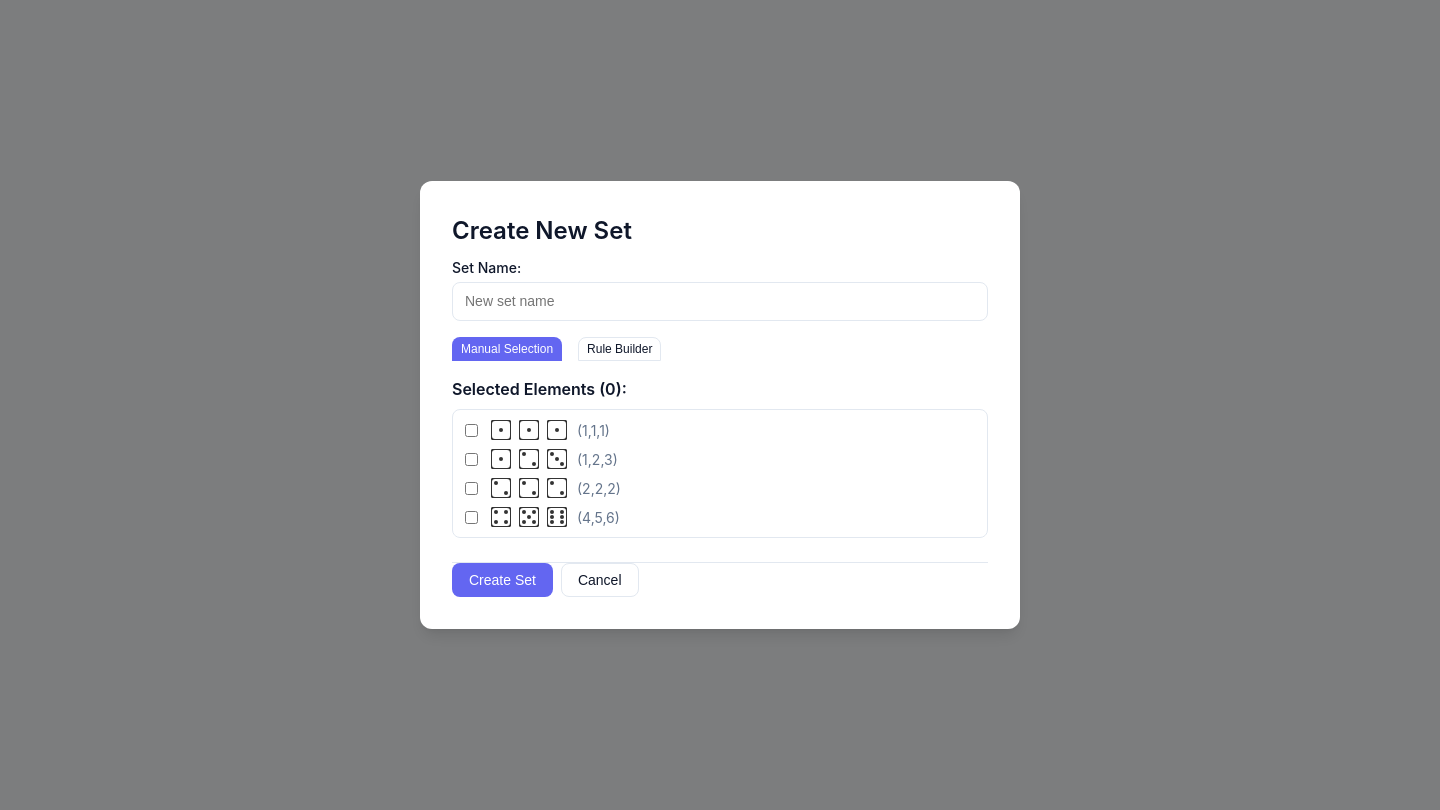
SetEditModal 3-Dice Rules › applies SUM rule correctly for 3 dice
Click the button "Rule Builder". click: (620, 349)
box: [578,337,662,361]
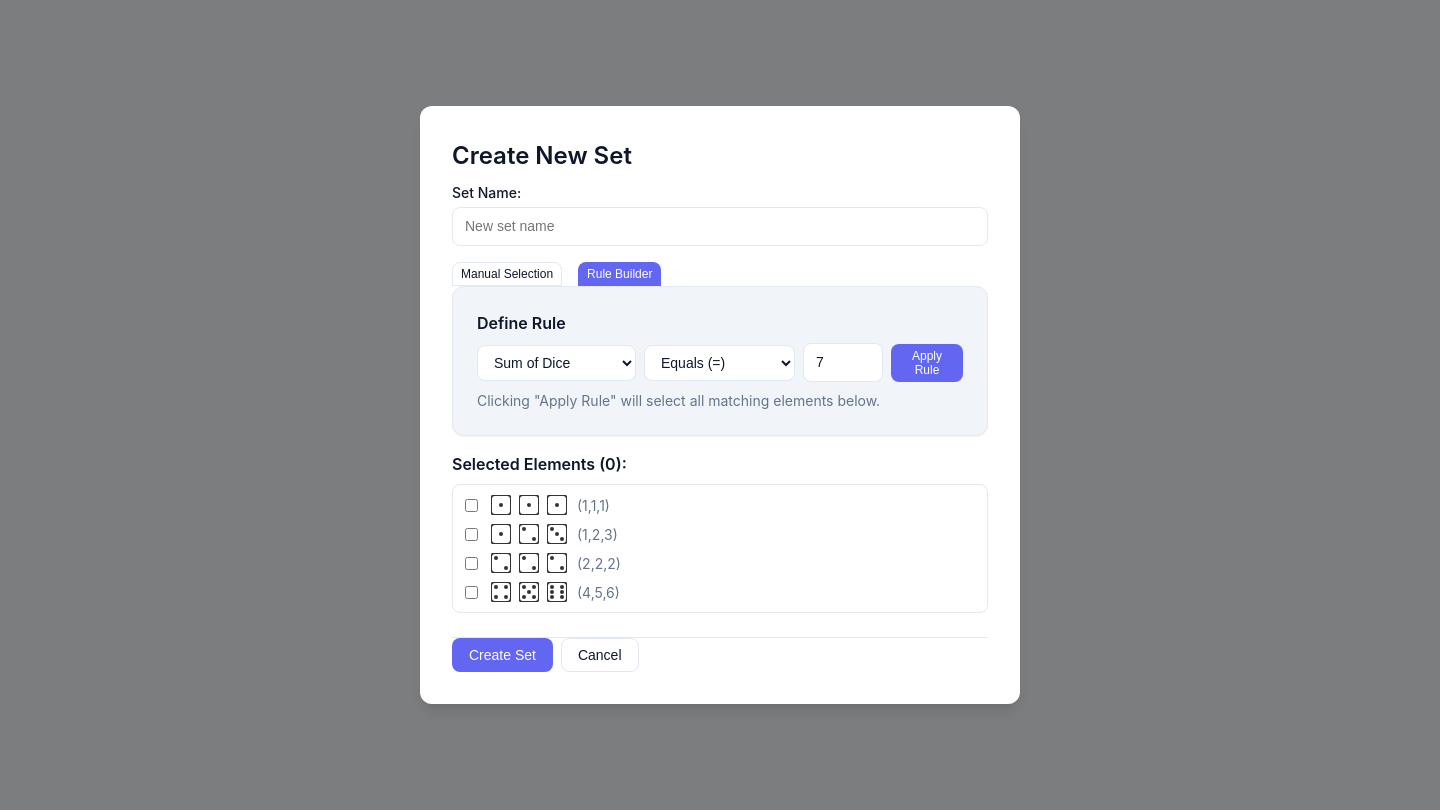
Replace the text in the number field showing "7" with "6". click: (843, 362)
box: [803,343,883,382]
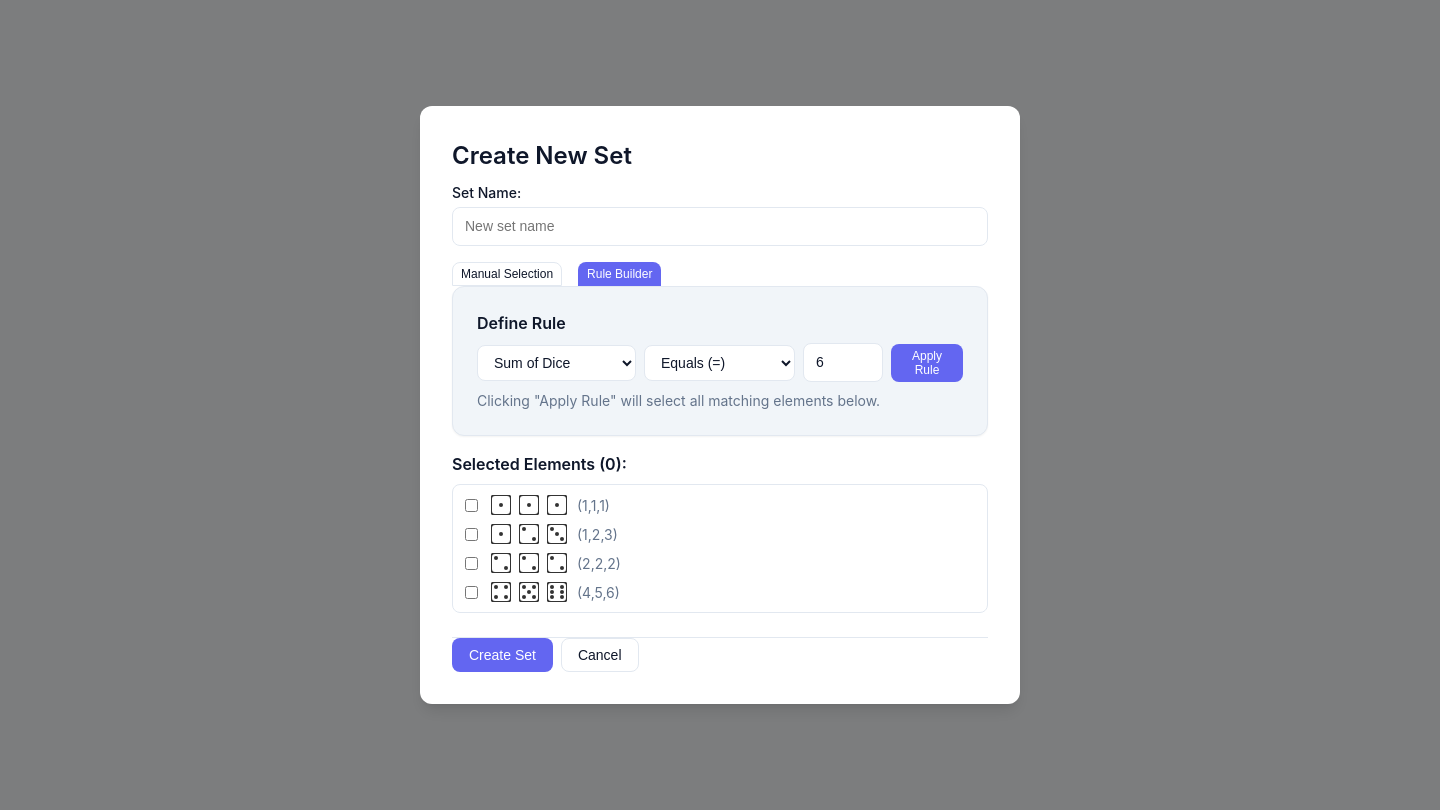
Click the button "Apply Rule". click: (927, 362)
box: [891,344,963,382]
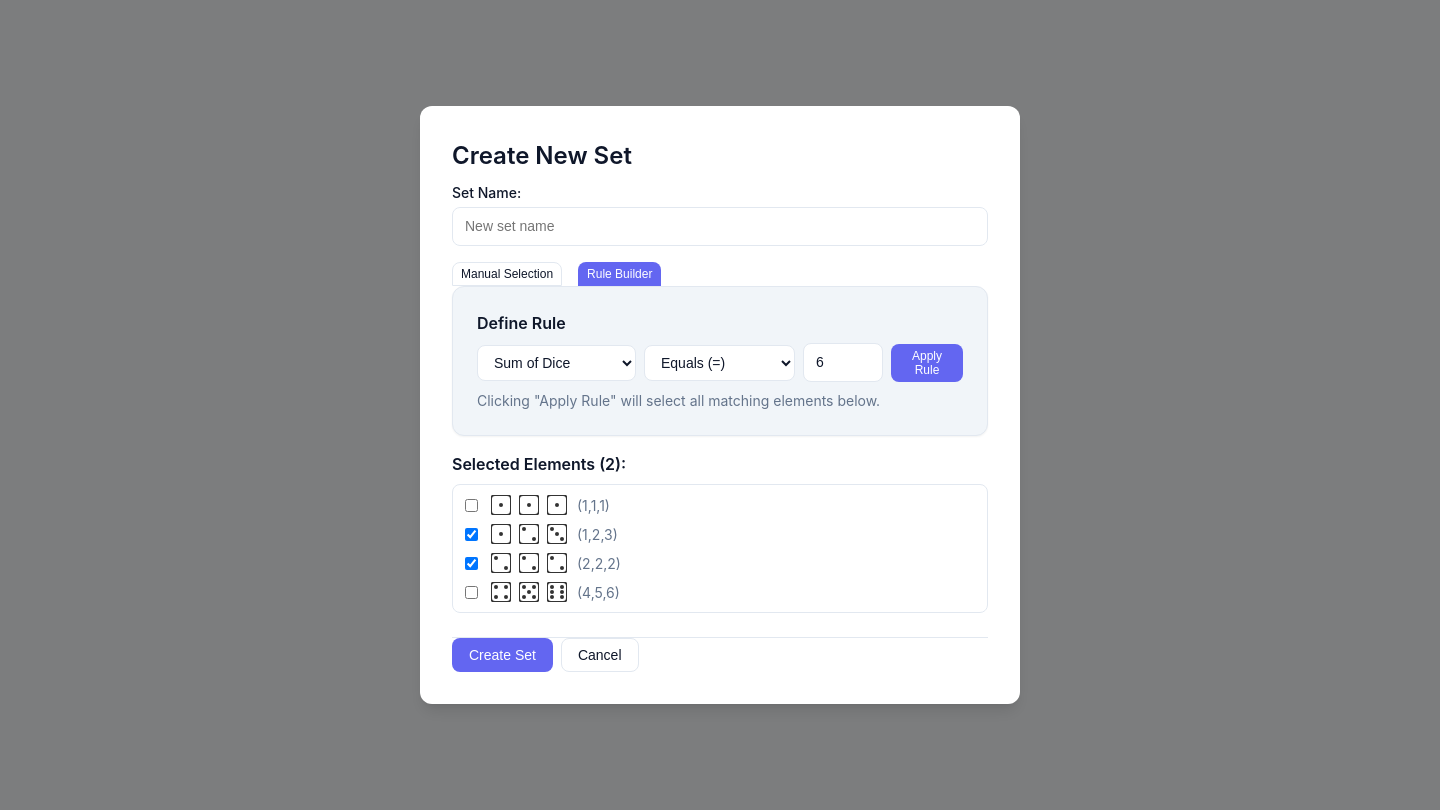
Expected: the checkbox labelled "(1,1,1)" is not checked, [465,498,478,512]
Result: the checkbox labelled "(1,2,3)" is checked at [465,528,478,540]
Result: the checkbox labelled "(2,2,2)" is checked at [465,556,478,570]
